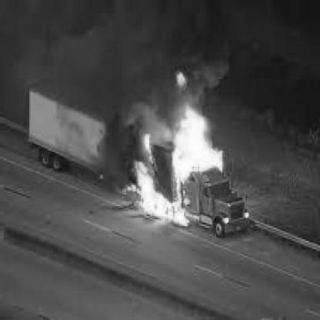Fire: (132, 100, 225, 229), (172, 66, 190, 90)
Smoke: (70, 20, 180, 89), (186, 17, 240, 86)
